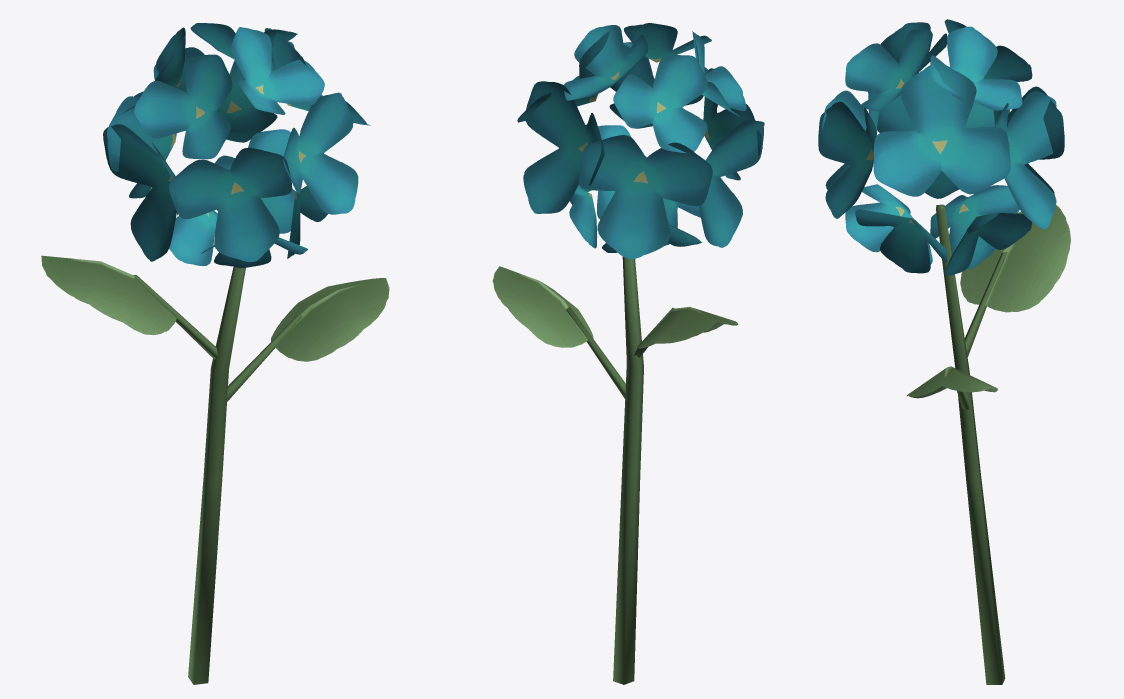
The model's file is flower_1.glb.
3 views of the same model, side by side, from view 1: azimuth 30°, elevation 25°; view 2: azimuth 150°, elevation 25°; view 3: azimuth 270°, elevation 25° (orthographic). The views are drawn at different scales.
Visible parts, largest first — view 1: Flower_1; view 2: Flower_1; view 3: Flower_1.
Boxes of the visible parts, bbox=[...] form: Flower_1: bbox=[41, 23, 389, 684]; Flower_1: bbox=[492, 23, 764, 684]; Flower_1: bbox=[818, 19, 1070, 684].
Bounding box in the file's own units: 0.2677 × 0.4894 × 0.2044.
Materials: 1 (1 with a texture image).
